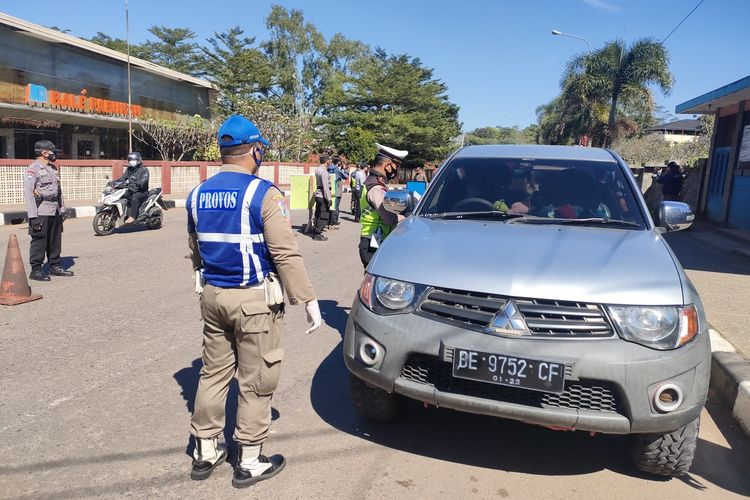plate: (455, 345, 563, 388)
